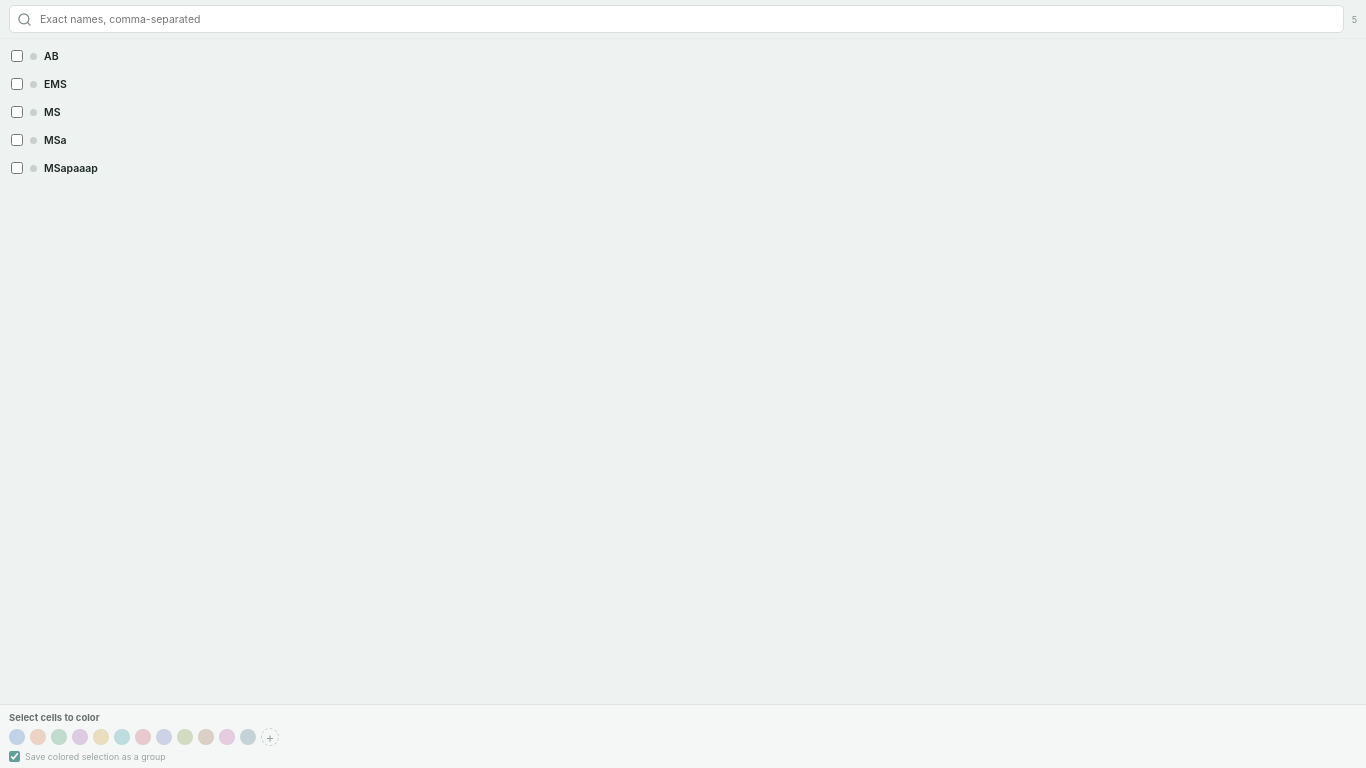
Scenario: cell-list exact multi-search › matches one cell exactly without showing descendants or containing names
Type "ms" into the field named "Search cells" at (687, 19), box [38,12,1336,26]
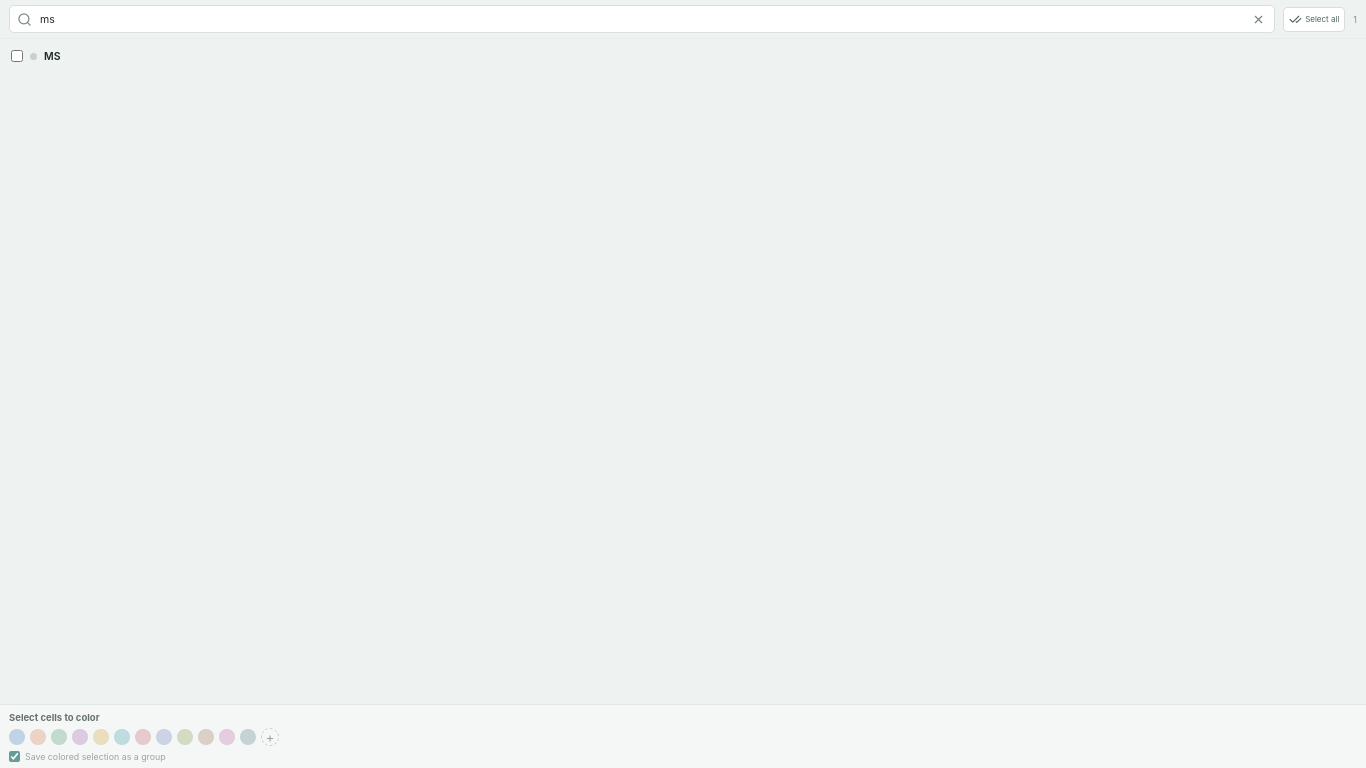
Now the number of options is 1, box [11,50,60,62]
Now the option "MSa" is gone
Now the option "EMS" is gone
